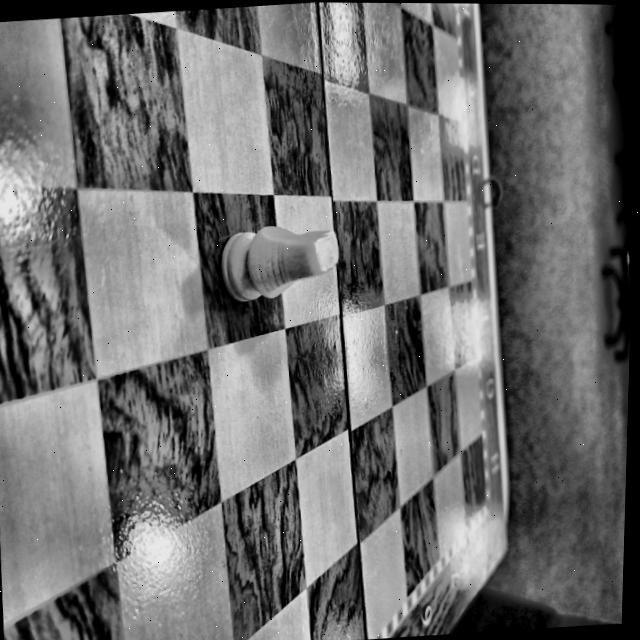white-knight: (220, 225, 338, 302)
